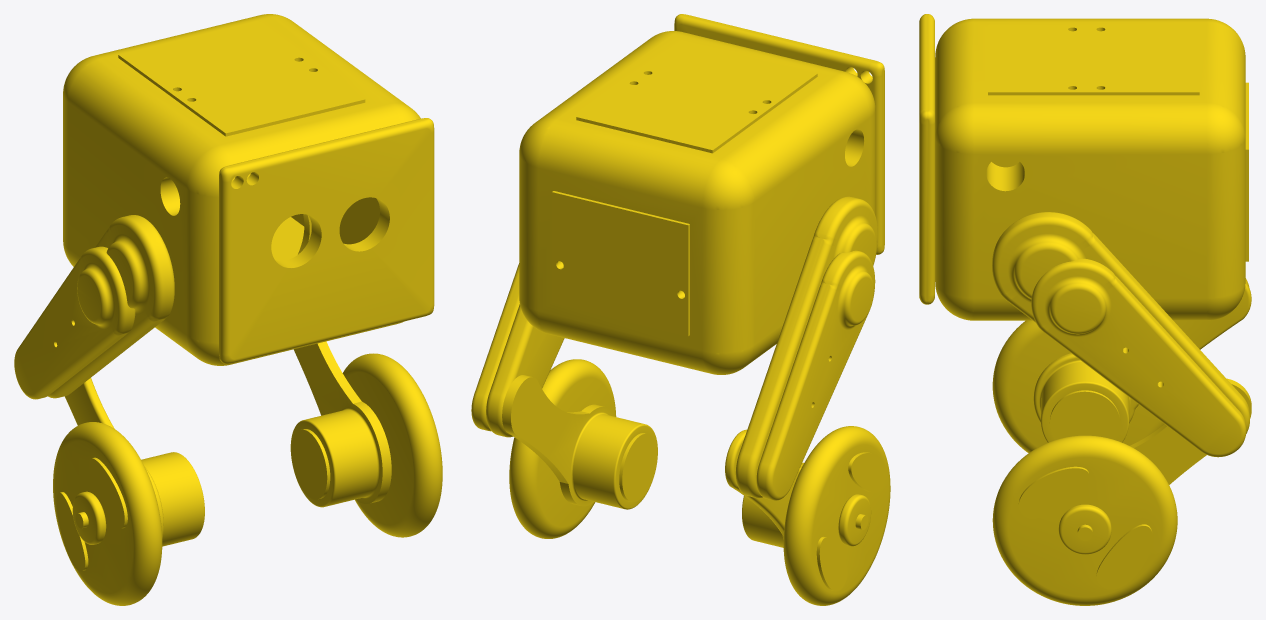
The model's file is self balancing full assembly final.glb.
3 views of the same model, side by side, from view 1: azimuth 30°, elevation 25°; view 2: azimuth 150°, elevation 25°; view 3: azimuth 270°, elevation 25° (orthographic). The views are drawn at different scales.
Parts seen in each view (by area): view 1: Surface 16, Surface 14, Part 9, Part 10, Part 12, Surface 22, Surface 6, Surface 21, Surface 17, Surface 9, Part 11; view 2: Surface 16, Surface 13, Part 9, Part 10, Surface 22, Surface 6, Surface 21, Part 12, Surface 14, Surface 5, Surface 17, Surface 4 (+2 smaller); view 3: Surface 16, Part 12, Surface 4, Part 9, Surface 5, Part 10, Surface 17, Surface 14, Surface 11, Surface 6, Part 13, Surface 13.
Part boxes in pixels (x1,y1,x2,y2): Surface 16: (63, 14, 420, 365); Surface 14: (219, 118, 434, 364); Part 9: (118, 21, 365, 136); Part 10: (53, 422, 162, 605); Part 12: (342, 353, 442, 537); Surface 22: (14, 246, 135, 399); Surface 6: (290, 341, 391, 507); Surface 21: (48, 215, 174, 398); Surface 17: (64, 378, 204, 546); Surface 9: (291, 429, 330, 499); Part 11: (72, 491, 106, 544); Surface 16: (519, 31, 875, 374); Surface 13: (552, 191, 689, 336); Part 9: (576, 40, 817, 153); Part 10: (783, 426, 890, 605); Surface 22: (756, 250, 875, 500); Surface 6: (502, 375, 657, 509); Surface 21: (735, 196, 877, 498); Part 12: (509, 359, 616, 538); Surface 14: (674, 14, 884, 254); Surface 5: (486, 304, 564, 437); Surface 17: (725, 429, 803, 547); Surface 4: (471, 263, 519, 431); Surface 16: (935, 18, 1245, 320); Part 12: (992, 435, 1177, 605); Surface 4: (1031, 258, 1246, 457); Part 9: (988, 25, 1199, 95); Surface 5: (992, 212, 1249, 433); Part 10: (992, 320, 1164, 453); Surface 17: (1033, 282, 1251, 442); Surface 14: (919, 14, 934, 304); Surface 11: (1049, 390, 1120, 439); Surface 6: (1130, 378, 1251, 484); Part 13: (1058, 504, 1111, 554); Surface 13: (1245, 82, 1248, 261).
Bounding box in the file's own units: 0.1086 × 0.1494 × 0.0942.
